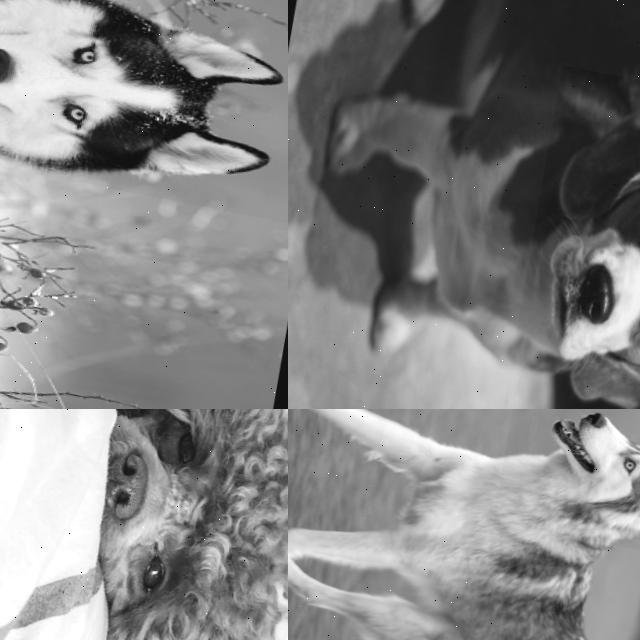beagle: (491, 65, 640, 409)
husky: (0, 0, 288, 225), (487, 409, 640, 570)
poodle: (0, 409, 288, 640)
